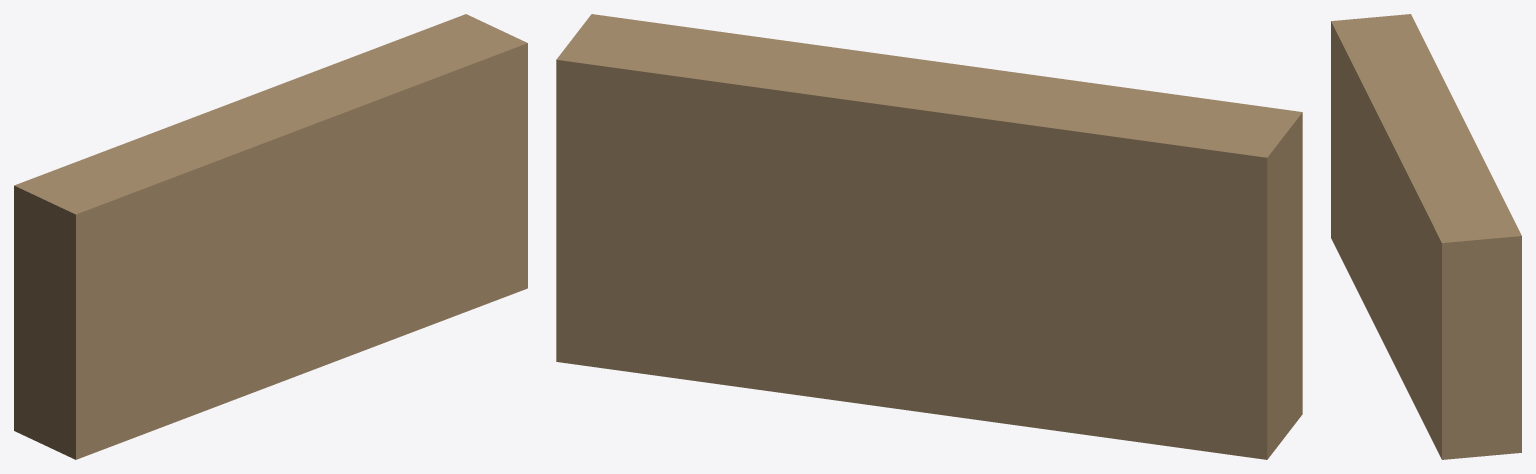
File: SM_L1_Rooms_Solid_7c3d75f9cb_0.fbx
3 views of the same model, side by side, from view 1: azimuth 30°, elevation 25°; view 2: azimuth 150°, elevation 25°; view 3: azimuth 270°, elevation 25° (orthographic). The views are drawn at different scales.
Parts seen in each view (by area): view 1: SM_L1_Rooms_Solid_7c3d75f9cb_0; view 2: SM_L1_Rooms_Solid_7c3d75f9cb_0; view 3: SM_L1_Rooms_Solid_7c3d75f9cb_0.
Boxes of the visible parts, box(x1,y1,x2,y2) form: SM_L1_Rooms_Solid_7c3d75f9cb_0: box(14, 14, 527, 459); SM_L1_Rooms_Solid_7c3d75f9cb_0: box(556, 14, 1302, 459); SM_L1_Rooms_Solid_7c3d75f9cb_0: box(1331, 14, 1521, 459).
Size of the model in its own units: 0.9289 by 0.327 by 0.41.
